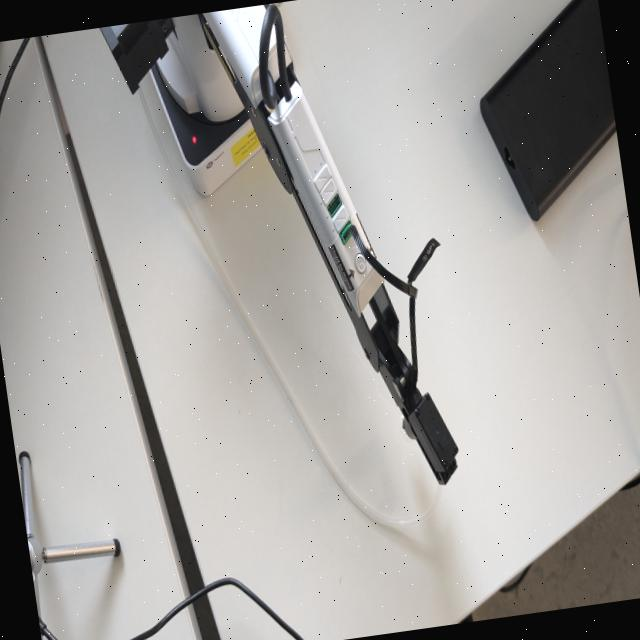Robot-end-effector-HF8z: (392, 384, 482, 494)
